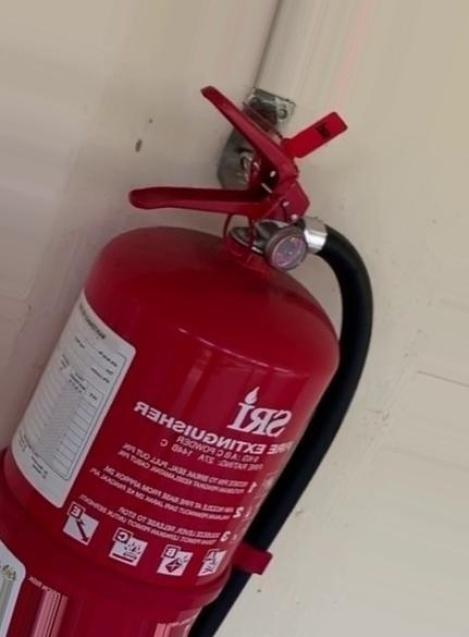APAR: (0, 83, 346, 636)
